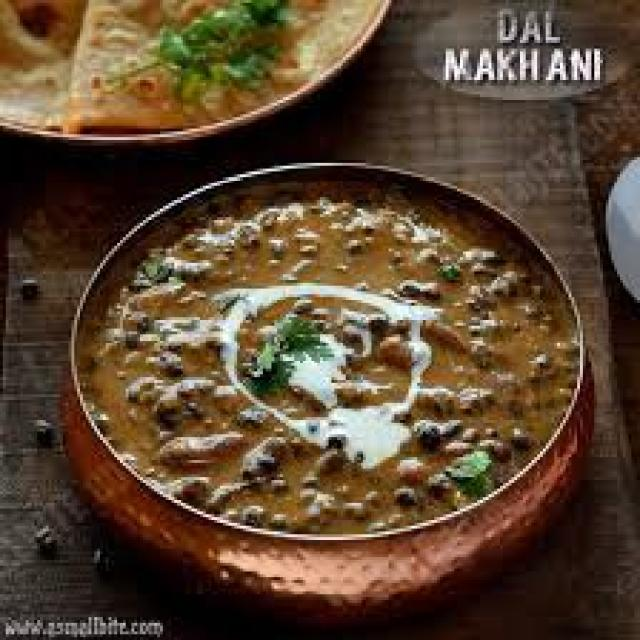dal_makhani: (75, 163, 572, 534)
